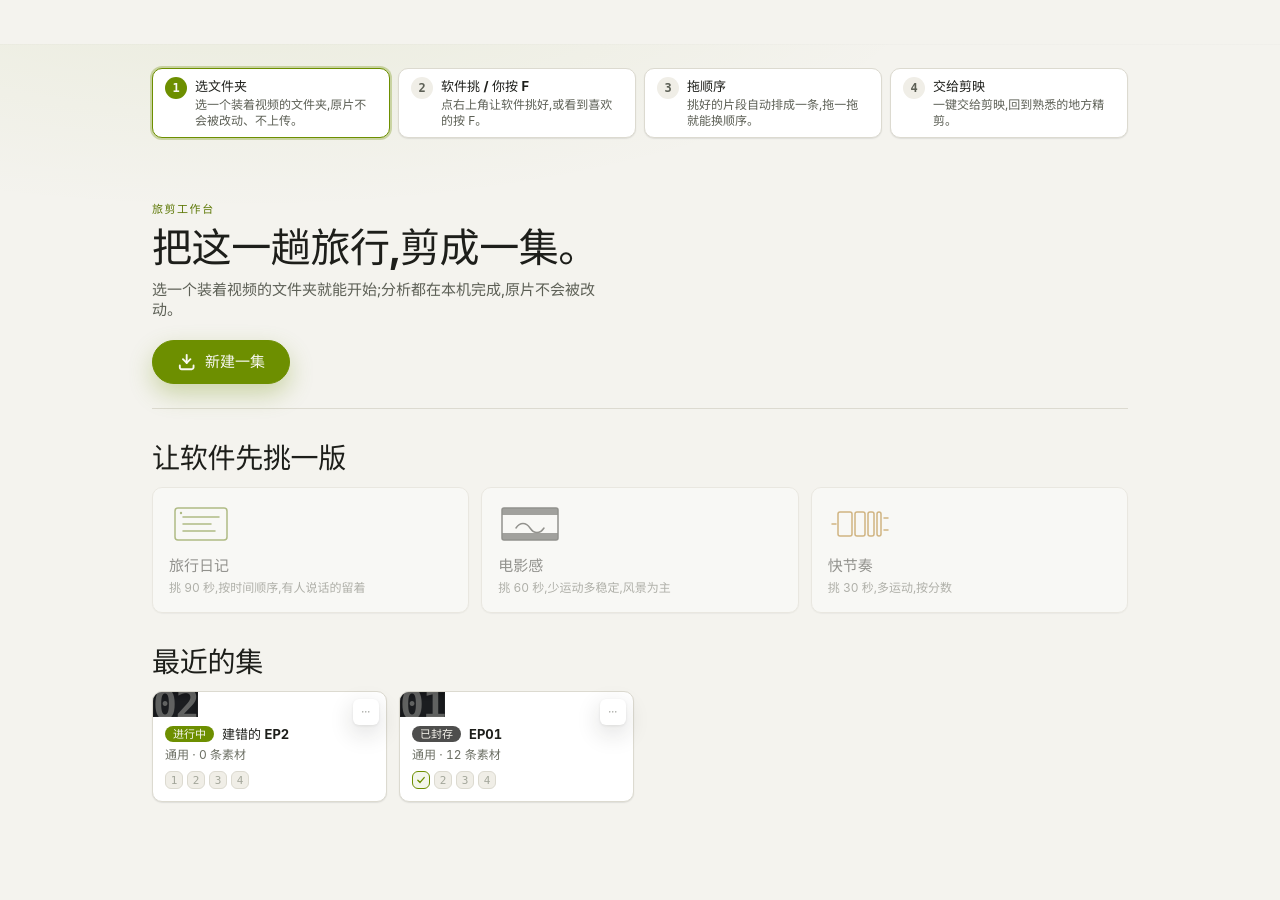
Scenario: 首页集卡 › 集卡菜单「重命名」→ 内联表单 → 保存按钮 → renameEpisode;卡片标题跟着变
The image size is (1280, 900).
Click the button named "集操作 · EP01" at [613, 712], box [600,699,626,725]
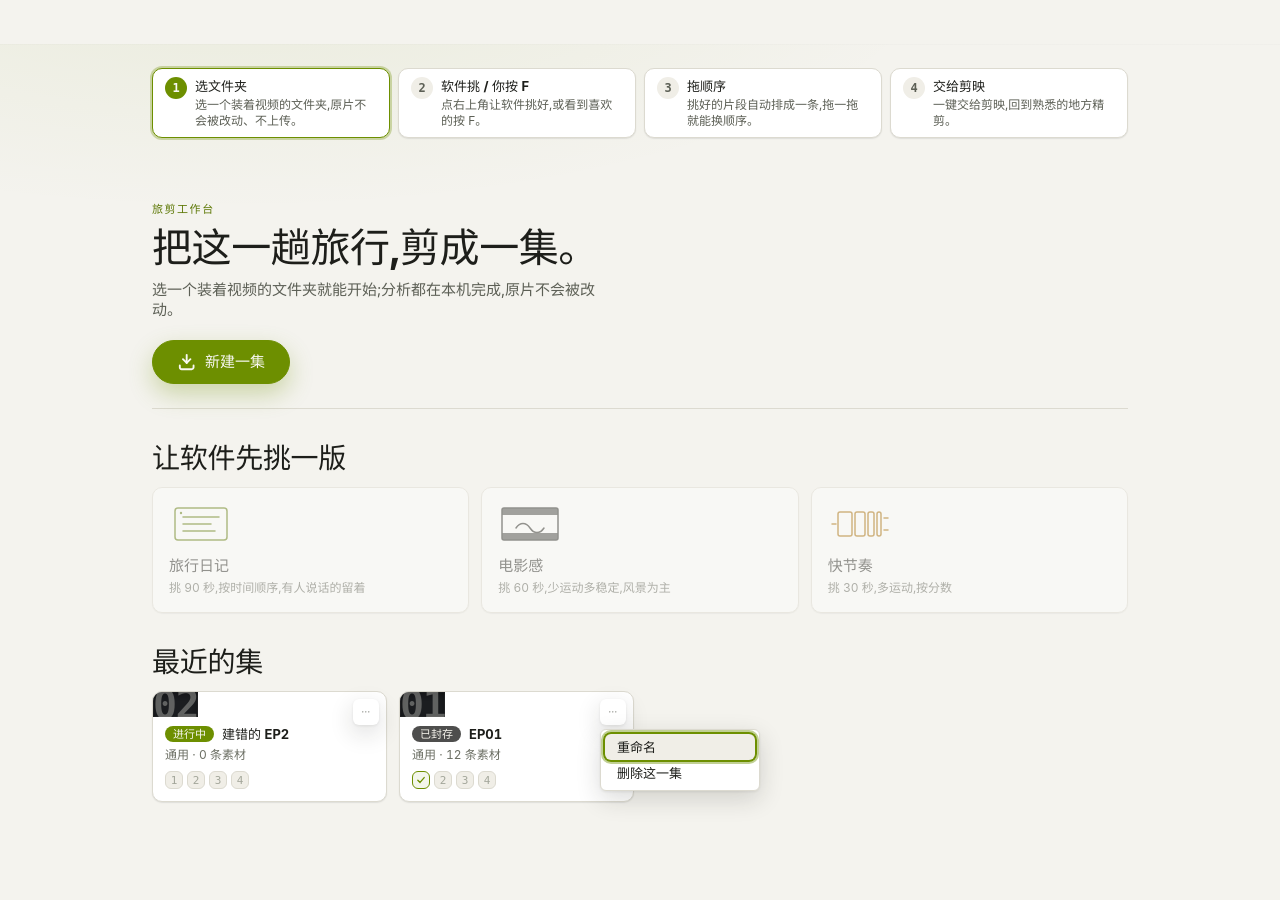
Click the menu item "重命名" at [680, 747], box [605,734,755,760]
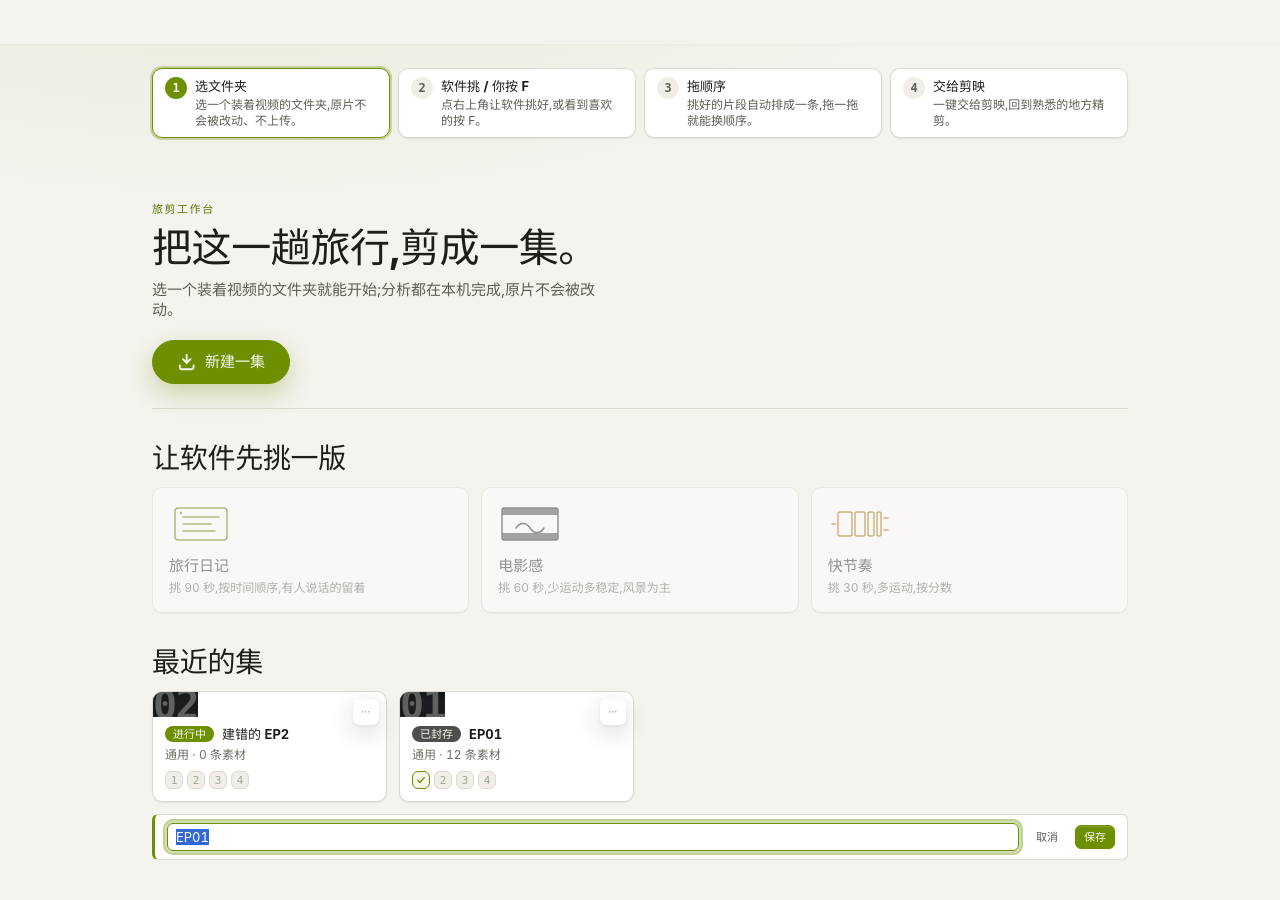
Replace the text in the field named "新的集标题" with "大理" at [593, 837], box [167,823,1019,851]
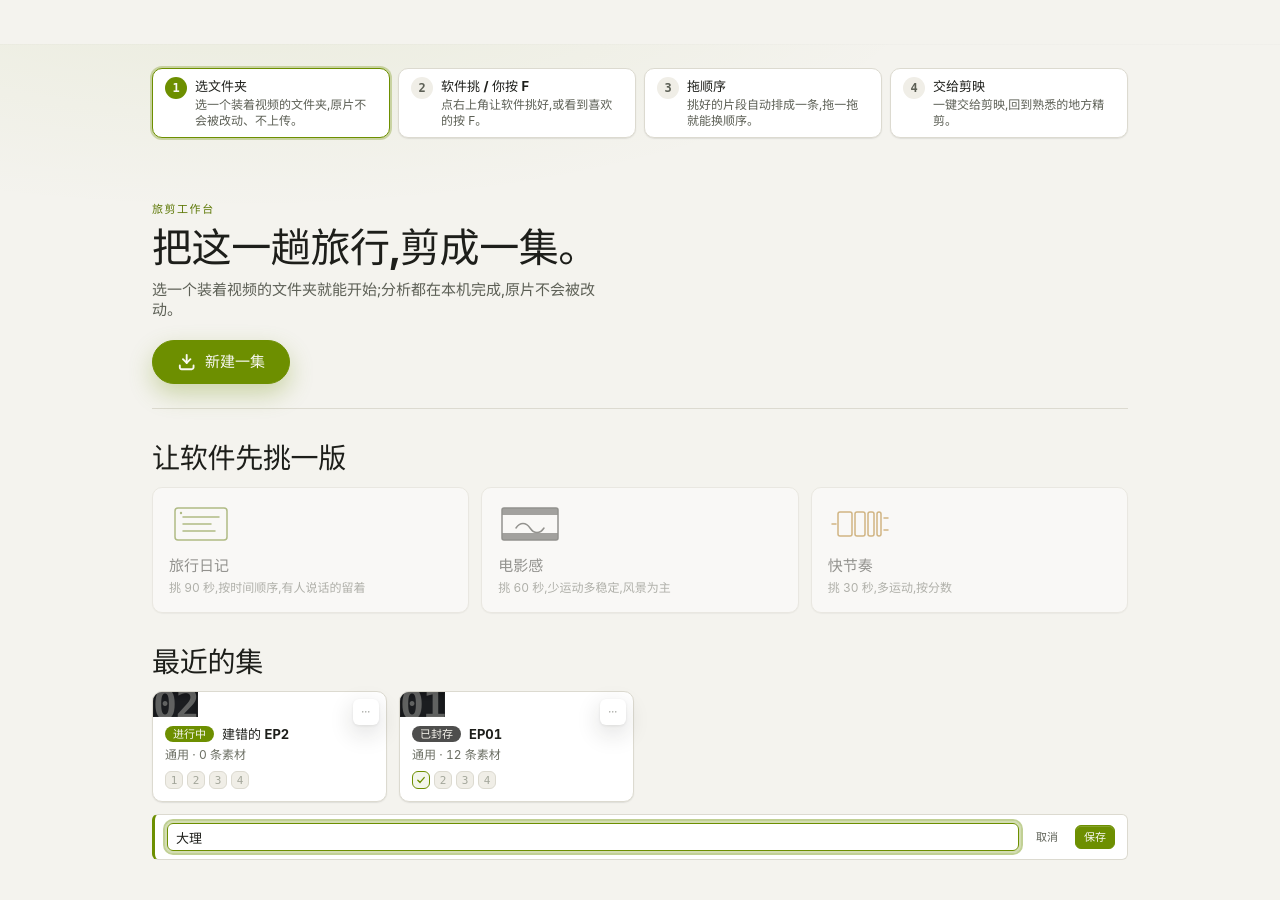
Click the button "保存" at [1095, 837], box [1075,825,1115,849]
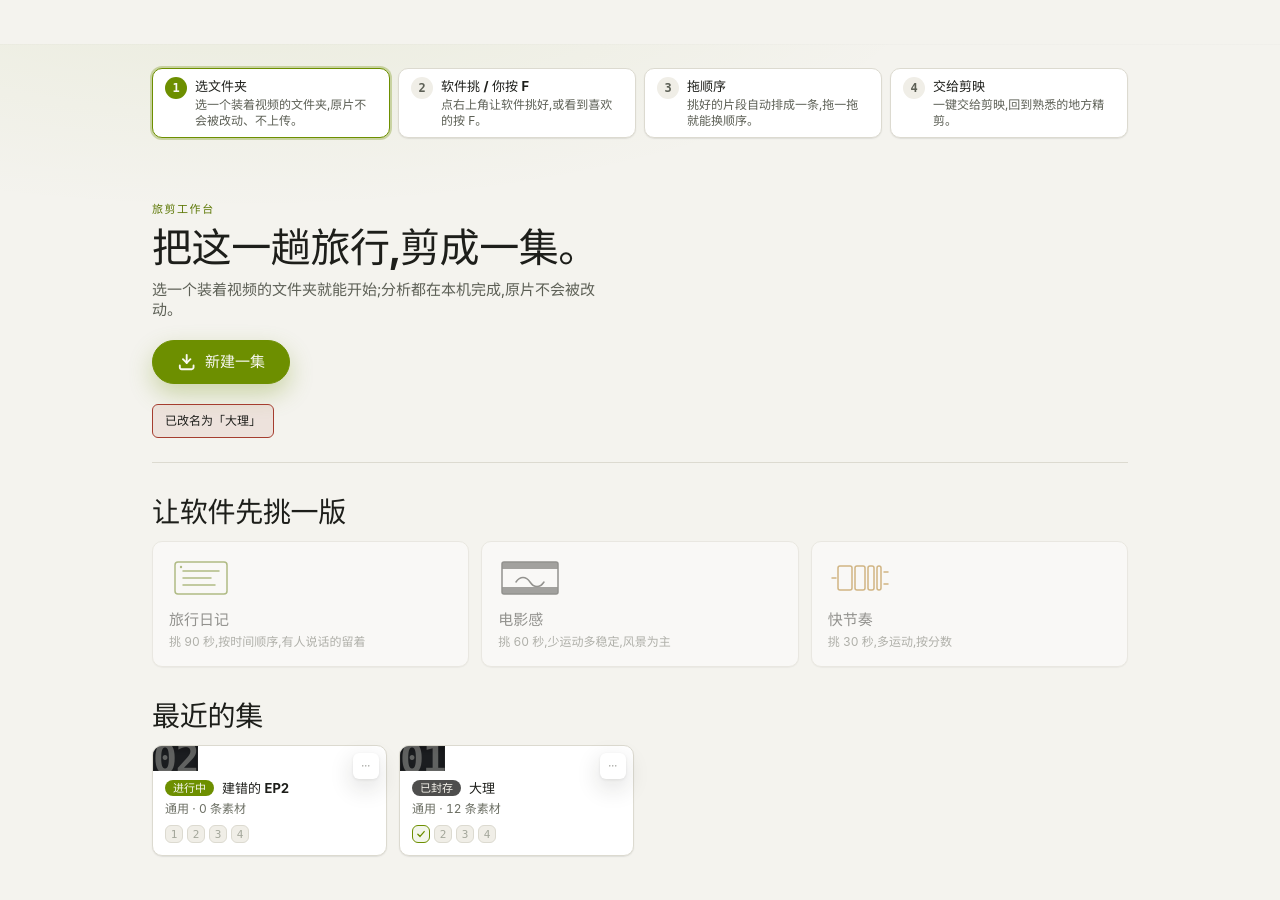
Result: the button named "集操作 · 大理" is shown at [600,753,626,779]
